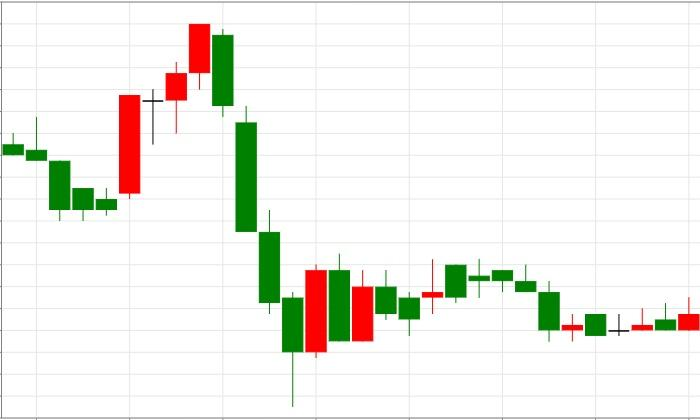three_black_crows_fall: (95, 23, 281, 314)
